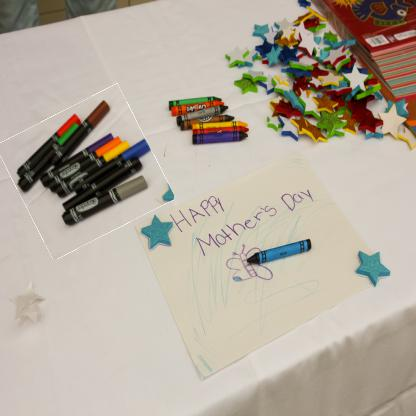Pen: (5, 95, 164, 248)
